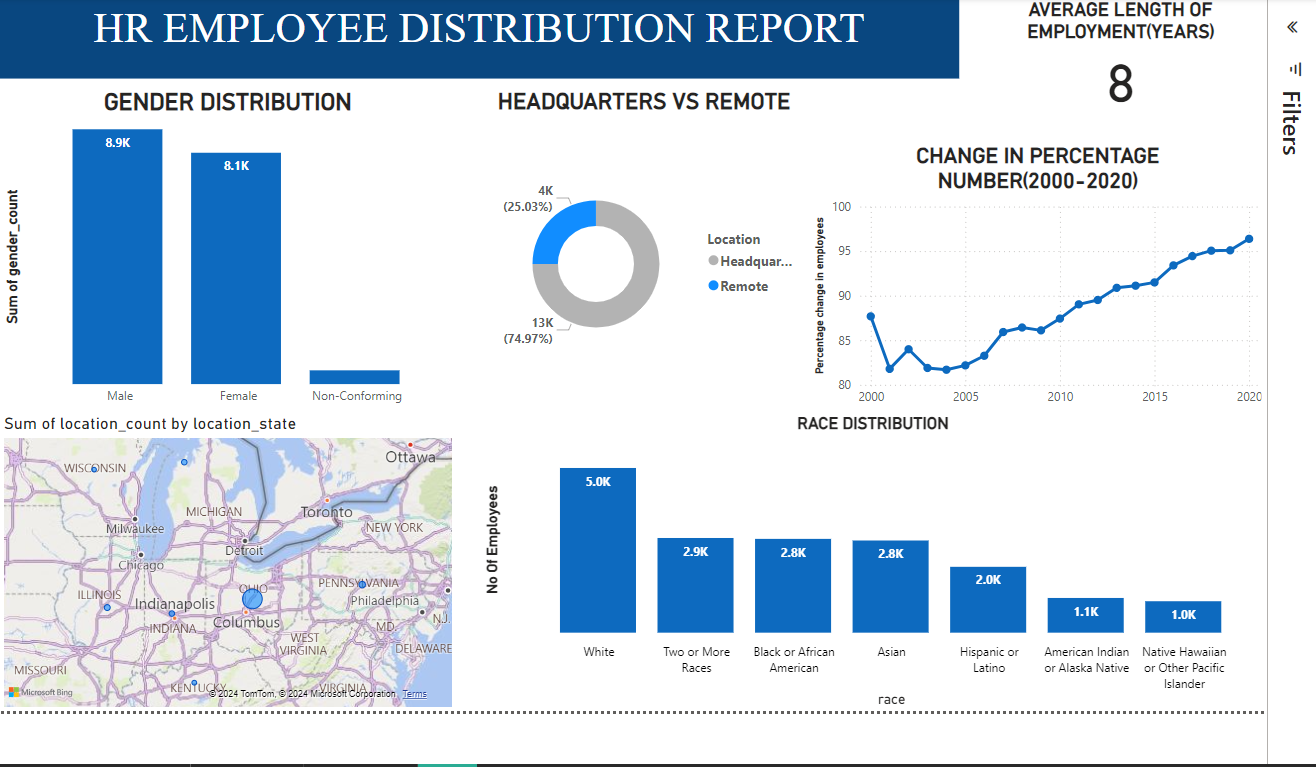

What the dashboard file says about the page in this screenshot:
{"tool":"powerbi","page":{"name":"Page 1","canvas":[1280,720],"ordinal":0},"visuals":[{"type":"textbox","box":[0,0,969.4,81.3],"z":0},{"type":"card","title":"AVERAGE LENGTH OF EMPLOYMENT(YEARS)","fields":{"Values":["Sum(avg_length_employment - HR SQL.avg_length_employment)"]},"box":[984.1,0,296,113.9],"z":1000},{"type":"columnChart","title":"GENDER DISTRIBUTION","fields":{"Category":["Gender- HR SQL.gender"],"Y":["Sum(Gender- HR SQL.gender_count)"]},"box":[0,91.1,461.9,328.6],"z":2000},{"type":"donutChart","title":"HEADQUARTERS VS REMOTE","fields":{"Y":["Sum(Location - HR SQL.location_count)"],"Category":["Location - HR SQL.location"]},"box":[484.7,91.1,333.4,328.6],"z":3000},{"type":"lineChart","title":"CHANGE IN PERCENTAGE NUMBER(2000-2020)","fields":{"Y":["Sum(Employee_change - HR SQL.net_change_percentage)"],"Category":["Employee_change - HR SQL.year"]},"box":[818.2,146.4,461.9,273.3],"z":4000},{"type":"map","fields":{"Size":["Sum(state distribution  - HR SQL.location_count)"],"Category":["state distribution  - HR SQL.location_state"]},"box":[0,419.6,461.9,300.9],"z":5000},{"type":"clusteredColumnChart","title":"RACE DISTRIBUTION","fields":{"Category":["Race distribution - HR SQL.race"],"Y":["Sum(Race distribution - HR SQL.Race_Count)"]},"box":[484.7,419.6,795.4,300.9],"z":6000}]}

Visuals, with their boxes on the page's 1280x720 design canvas (x1, y1, x2, y2). These are canvas units, not pixel positions in the 1316x767 screenshot, which may show the page scaled, cropped or inside an application window:
textbox: <box>0,0,969,81</box>
"AVERAGE LENGTH OF EMPLOYMENT(YEARS)" card: <box>984,0,1280,114</box>
"GENDER DISTRIBUTION" columnChart: <box>0,91,462,420</box>
"HEADQUARTERS VS REMOTE" donutChart: <box>485,91,818,420</box>
"CHANGE IN PERCENTAGE NUMBER(2000-2020)" lineChart: <box>818,146,1280,420</box>
map - Sum(state distribution  - HR SQL.location_count) x state distribution  - HR SQL.location_state: <box>0,420,462,720</box>
"RACE DISTRIBUTION" clusteredColumnChart: <box>485,420,1280,720</box>
